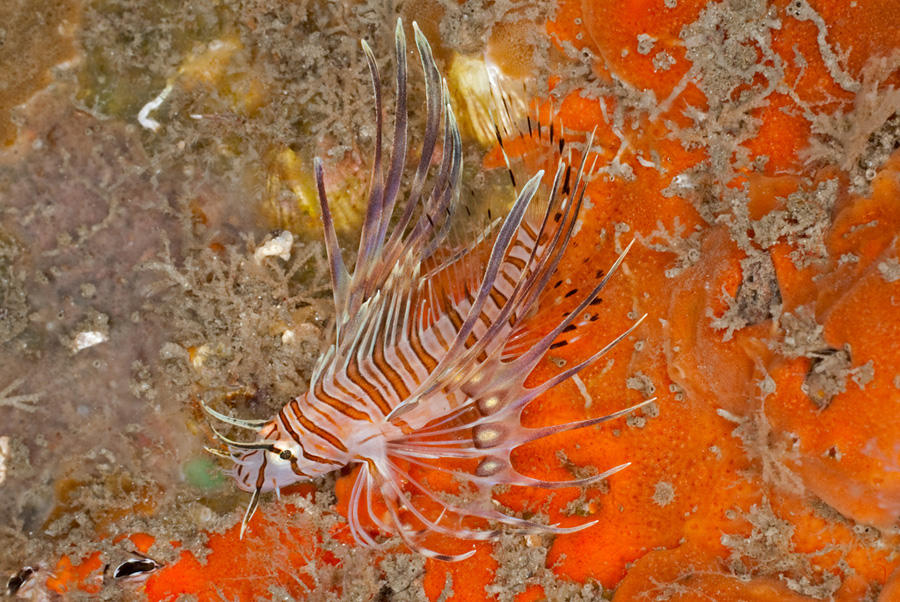Pterois_volitans: (137, 21, 627, 545)
